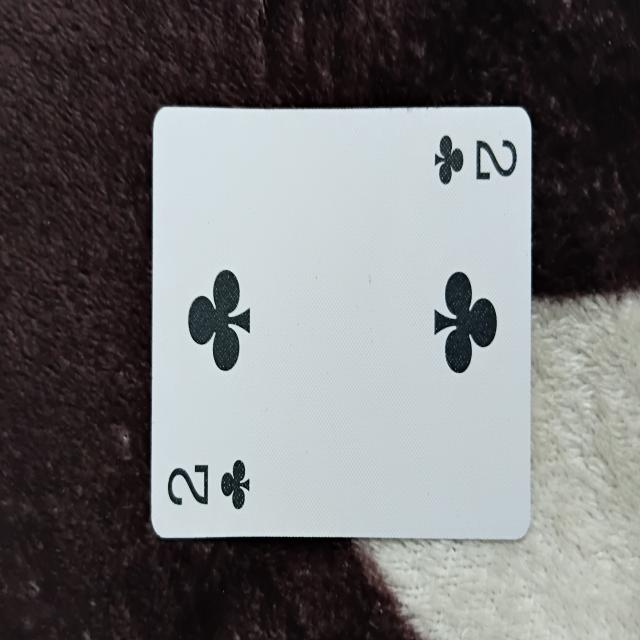2C: (149, 99, 533, 542)
